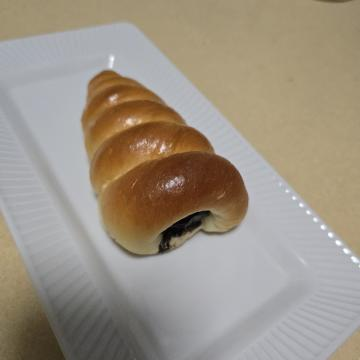cream horn: (46, 99, 276, 296)
